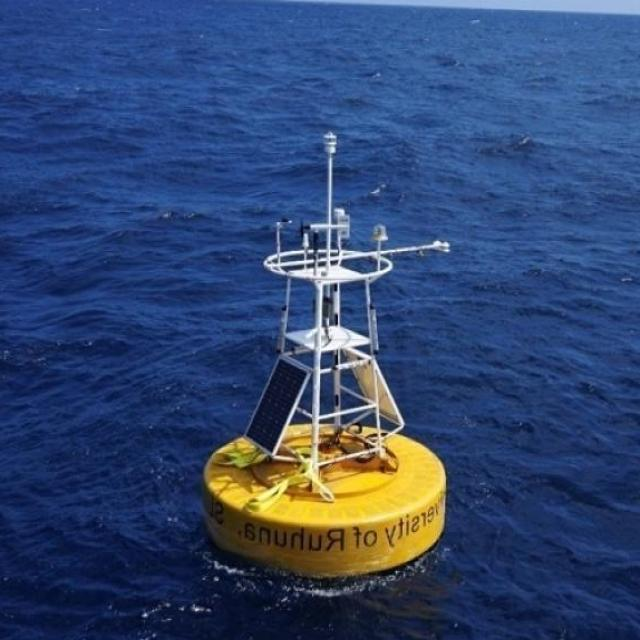buoy: (196, 130, 447, 577)
